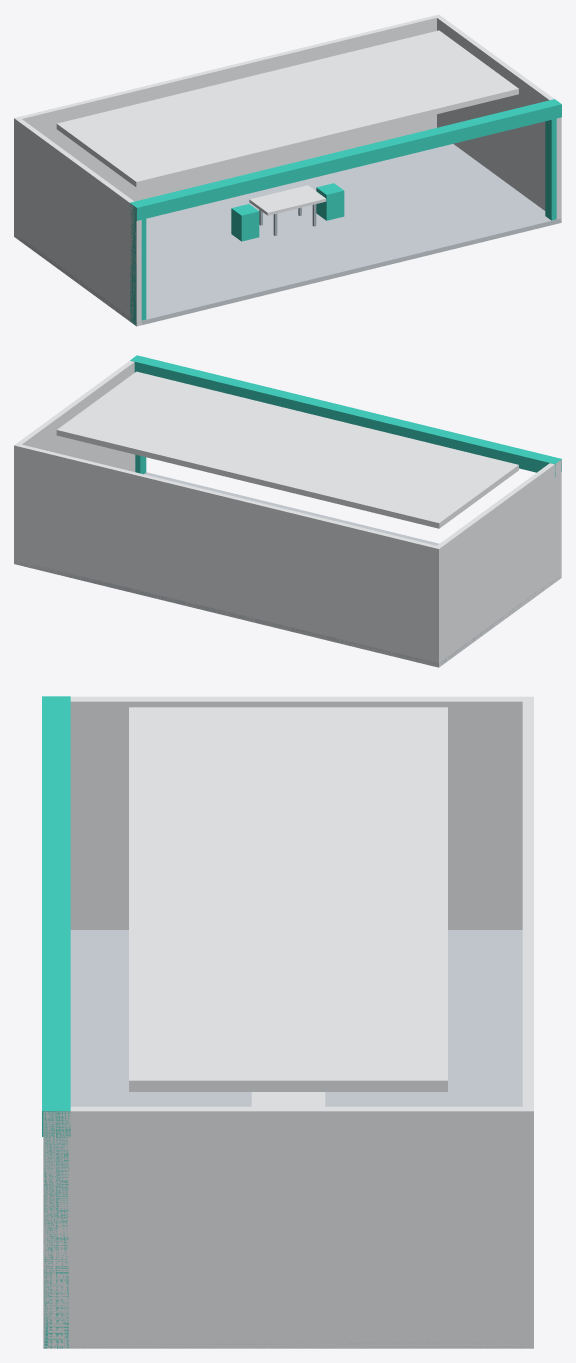
3 views of the same model, one above another, from view 1: azimuth 30°, elevation 25°; view 2: azimuth 150°, elevation 25°; view 3: azimuth 270°, elevation 25° (orthographic). The views are drawn at different scales.
Visible parts, largest first — view 1: Exhibition Booth Concept; view 2: Exhibition Booth Concept; view 3: Exhibition Booth Concept.
Boxes of the visible parts, left/top/right/bottom form: Exhibition Booth Concept: left=14, top=14, right=561, bottom=326; Exhibition Booth Concept: left=14, top=355, right=561, bottom=667; Exhibition Booth Concept: left=42, top=696, right=533, bottom=1348.
Size of the model in its own units: 12 by 3.34 by 6.02.
